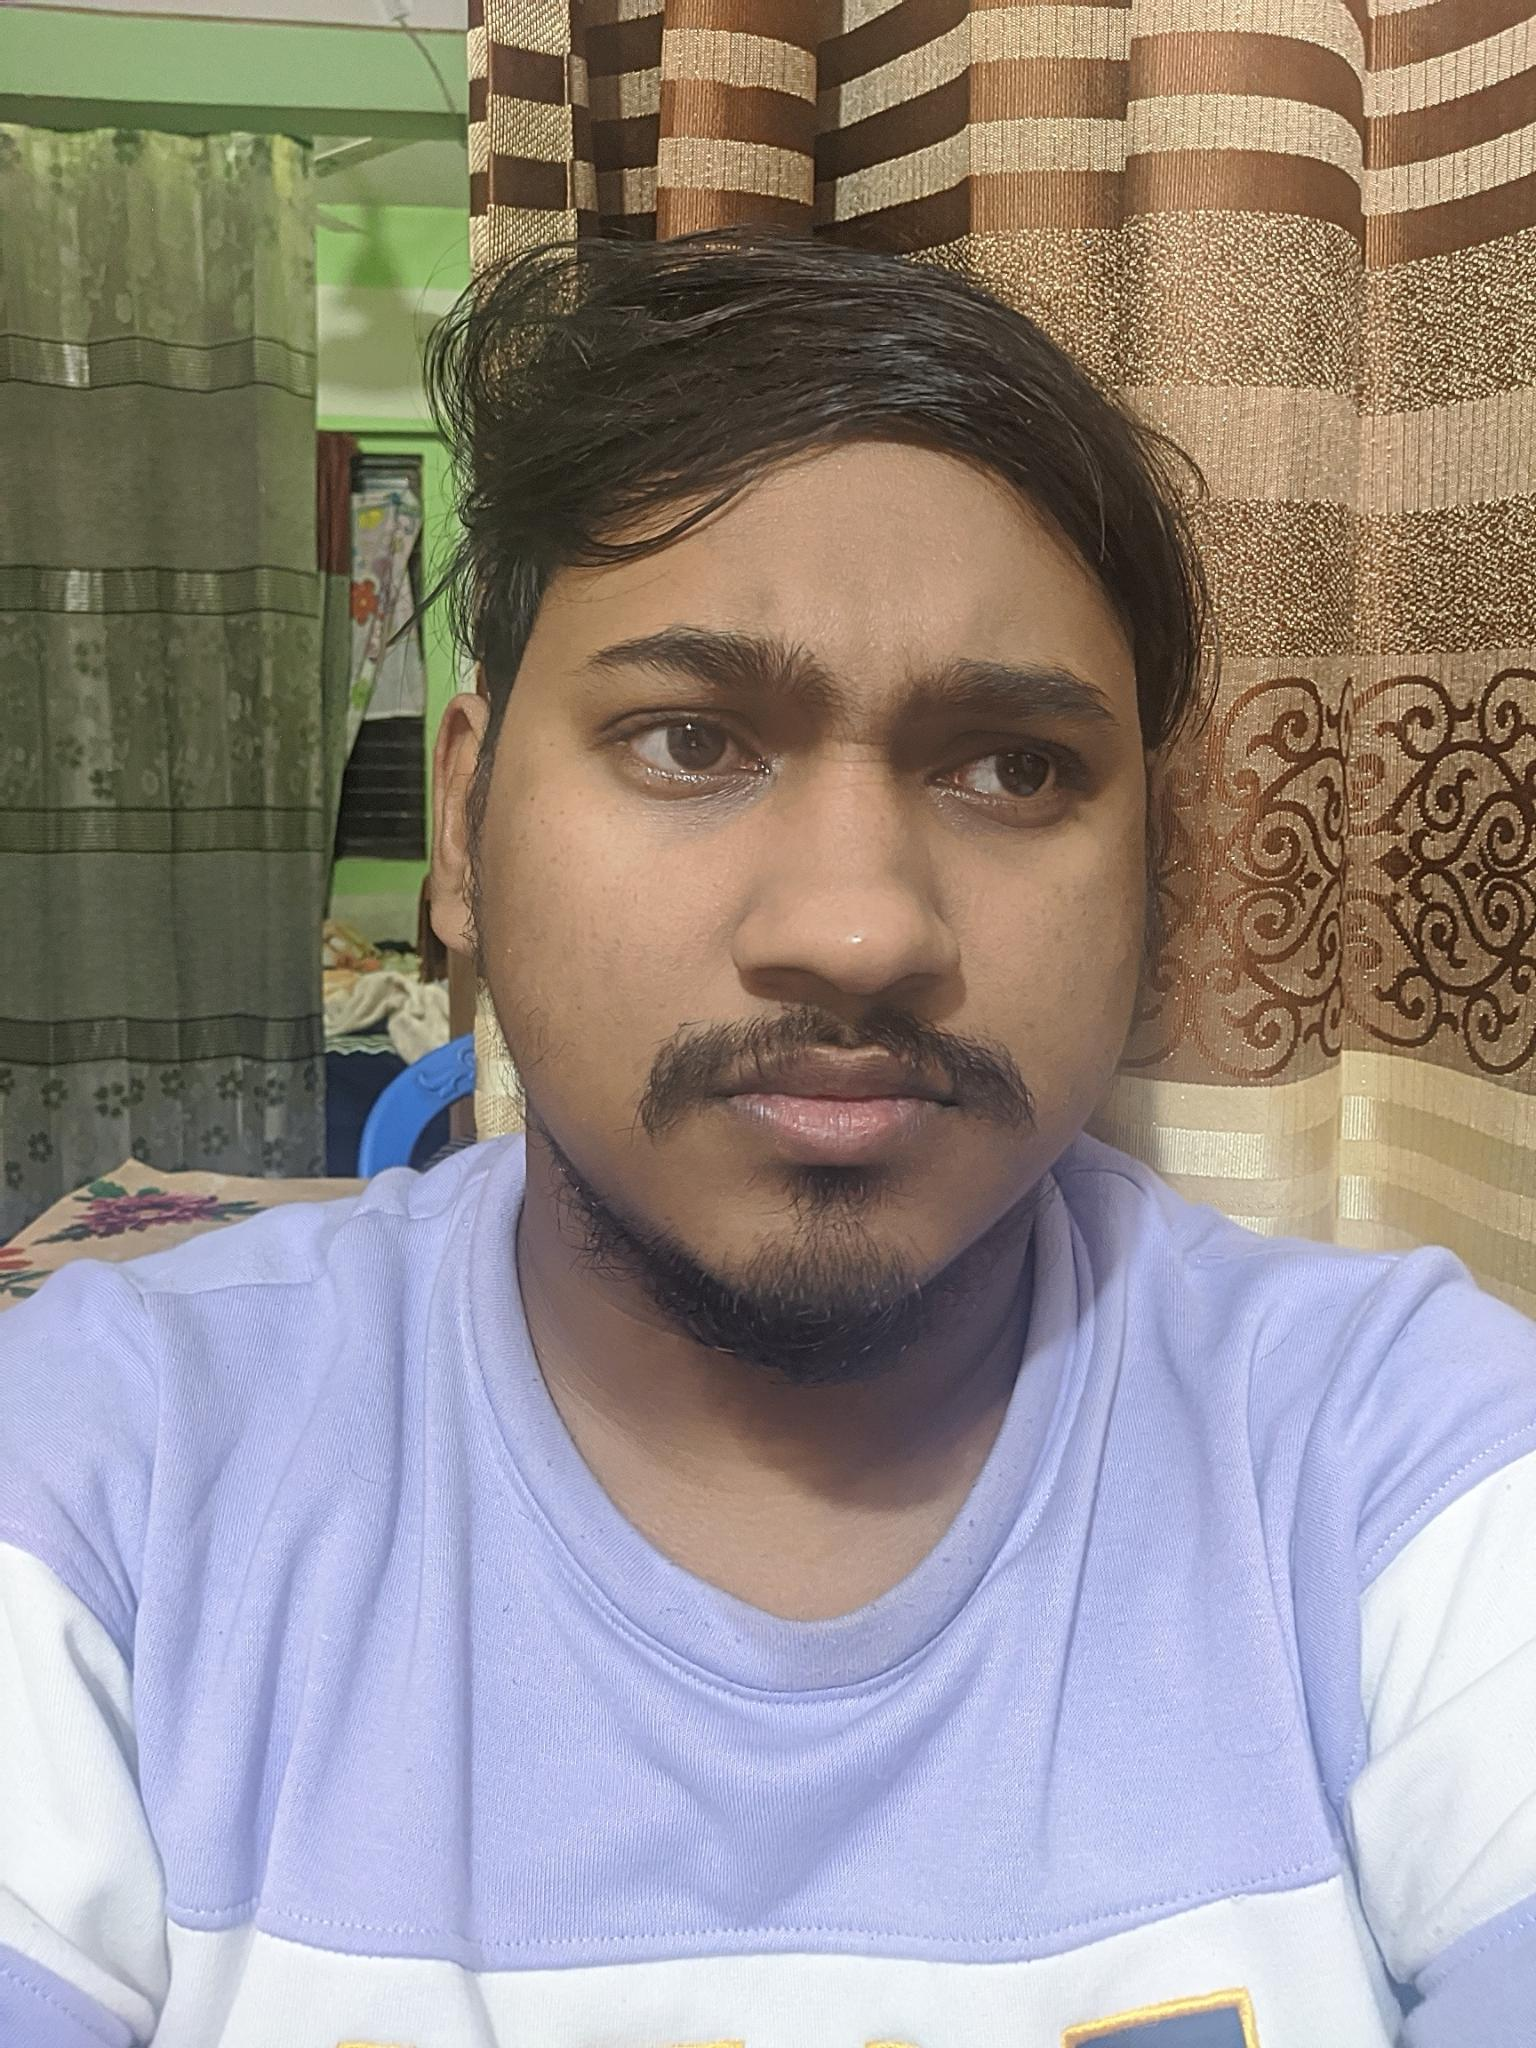Angry: (508, 498, 1152, 1290)
